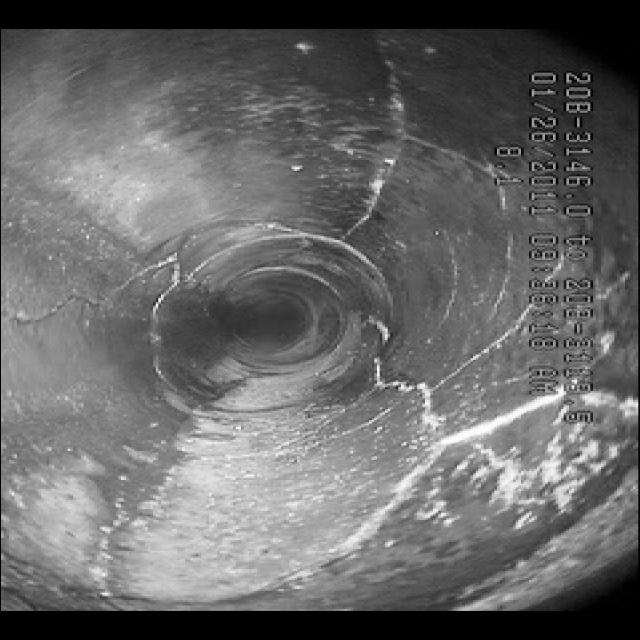Fracture: (296, 377, 509, 587), (2, 258, 178, 362)
